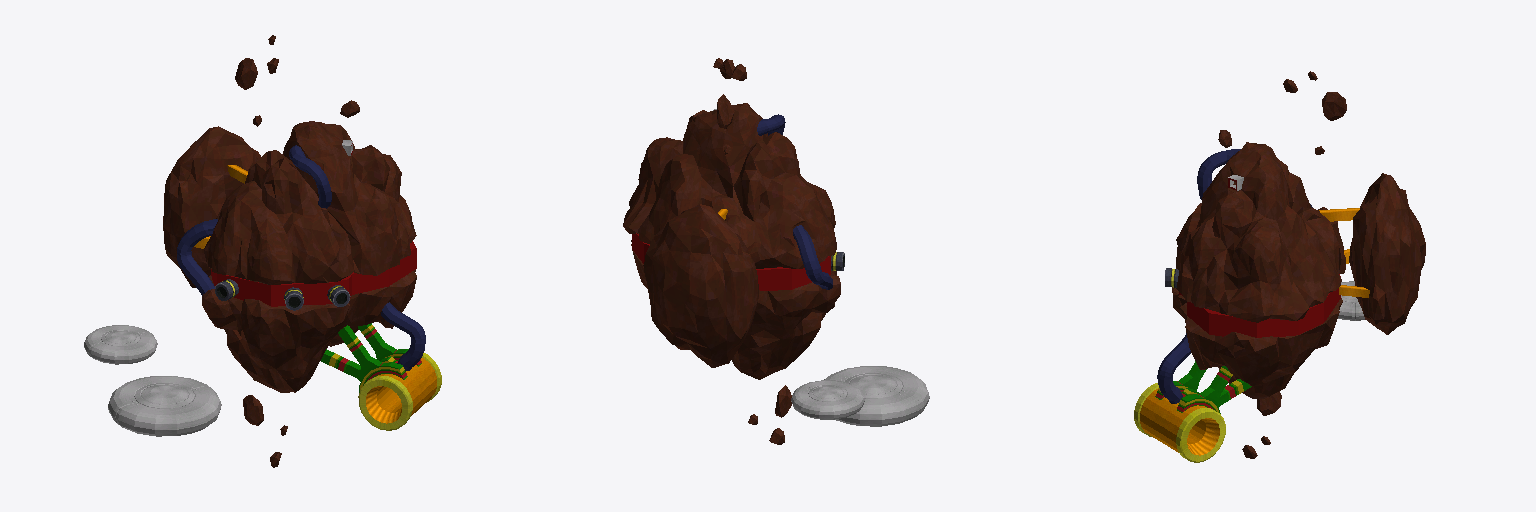
3 renders of one model, left to right at view 1: azimuth 30°, elevation 25°; view 2: azimuth 150°, elevation 25°; view 3: azimuth 270°, elevation 25°, orthographic.
Parts seen in each view (by area): view 1: m0, m3, m1, m4, m8, m2, m9, m5, m6; view 2: m0, m3, m4, m1, m6; view 3: m0, m2, m4, m8, m1, m9, m3.
Boxes of the visible parts, <box> form: m0: <box>163,35,416,467</box>; m3: <box>84,140,352,436</box>; m1: <box>177,145,425,370</box>; m4: <box>211,143,416,306</box>; m8: <box>321,323,421,392</box>; m2: <box>194,165,436,423</box>; m9: <box>358,353,441,430</box>; m5: <box>215,279,350,310</box>; m6: <box>101,330,194,408</box>; m0: <box>623,58,840,444</box>; m3: <box>713,109,929,426</box>; m4: <box>632,233,830,290</box>; m1: <box>757,114,832,289</box>; m6: <box>808,373,902,401</box>; m0: <box>1172,71,1425,458</box>; m2: <box>1140,208,1369,455</box>; m4: <box>1179,178,1340,337</box>; m8: <box>1155,361,1251,413</box>; m1: <box>1157,149,1312,403</box>; m9: <box>1134,383,1225,462</box>; m3: <box>1228,175,1364,320</box>.
Size of the model in its own units: 43.74 by 57.09 by 37.56.
Materials: 10 (8 with a texture image).